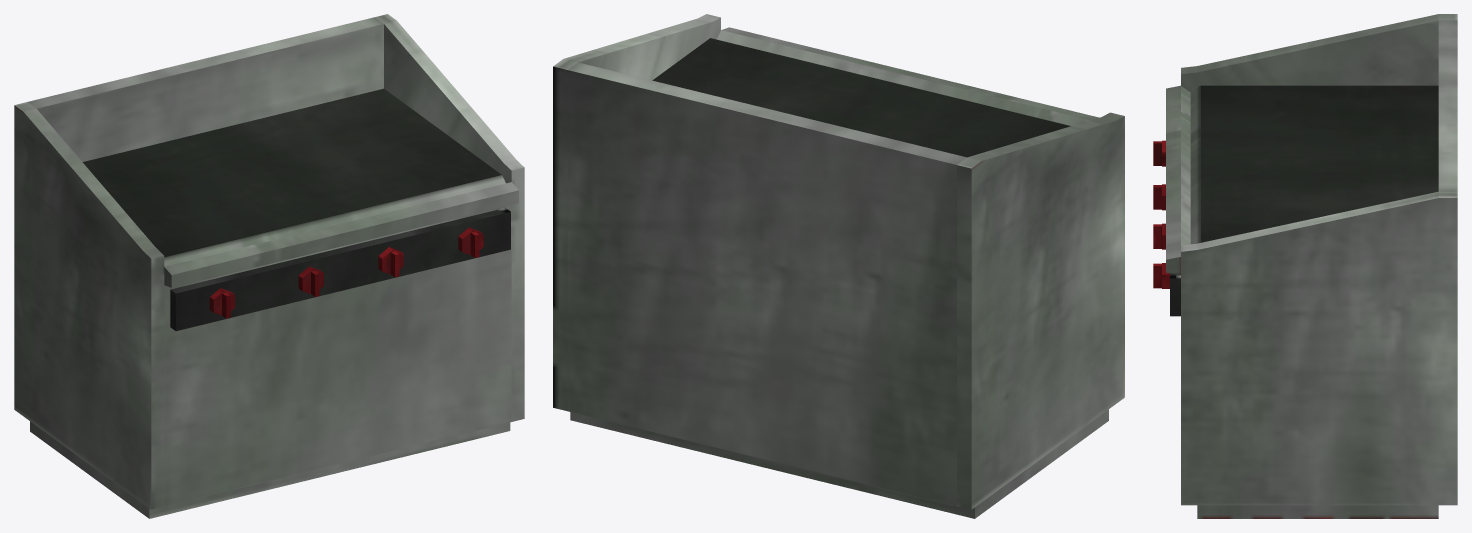
The model's file is Stove.fbx.
3 views of the same model, side by side, from view 1: azimuth 30°, elevation 25°; view 2: azimuth 150°, elevation 25°; view 3: azimuth 270°, elevation 25° (orthographic). The views are drawn at different scales.
Visible parts, largest first — view 1: Stove.001; view 2: Stove.001; view 3: Stove.001.
Boxes of the visible parts, x1,y1,x2,y2 form: Stove.001: (14,14,524,518); Stove.001: (553,14,1124,518); Stove.001: (1153,14,1457,518).
Size of the model in its own units: 172 by 141 by 120.
Materials: 1 (1 with a texture image).
